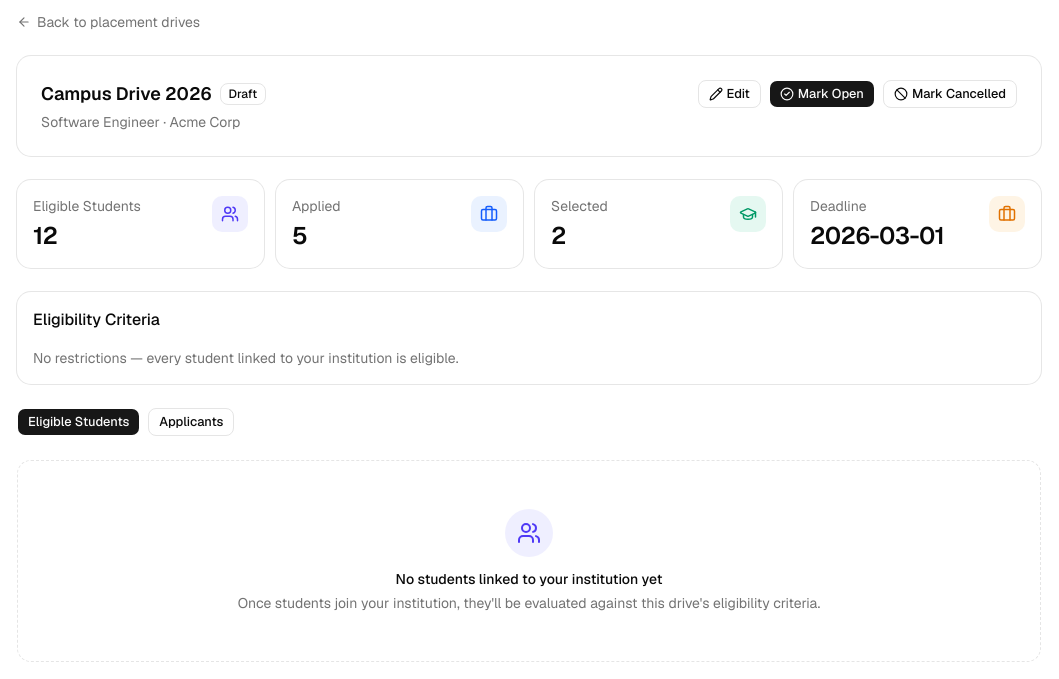
Scenario: PlacementDriveDetail › switches to the applicants panel and shows real application/interview status
Expected: the heading "Campus Drive 2026" is shown, [41,80,212,108]
What coordinates should you click on to do the following:
click the button "Applicants"
I would click on:
 (191, 422)
Its box is [148,408,234,436].
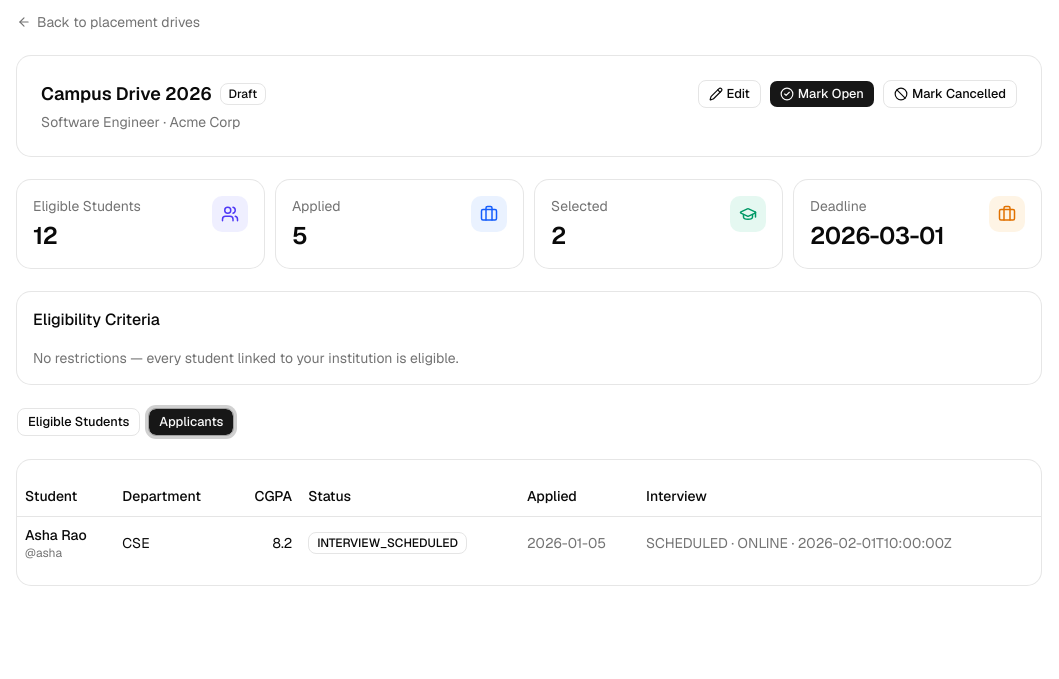
Expected: the text "Asha Rao" is shown, [25,526,87,544]
Expected: the text "INTERVIEW_SCHEDULED" is shown, [308,532,467,554]
Expected: the text "SCHEDULED · ONLINE · 2026-02-01T10:00:00Z" is shown, [638,516,1041,568]
